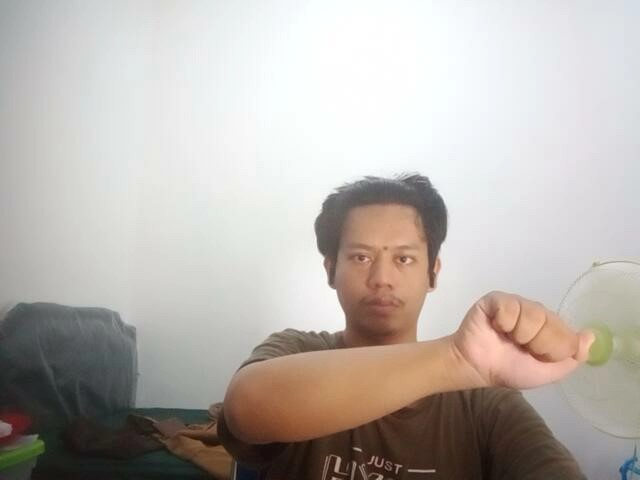A: (453, 282, 595, 396)
